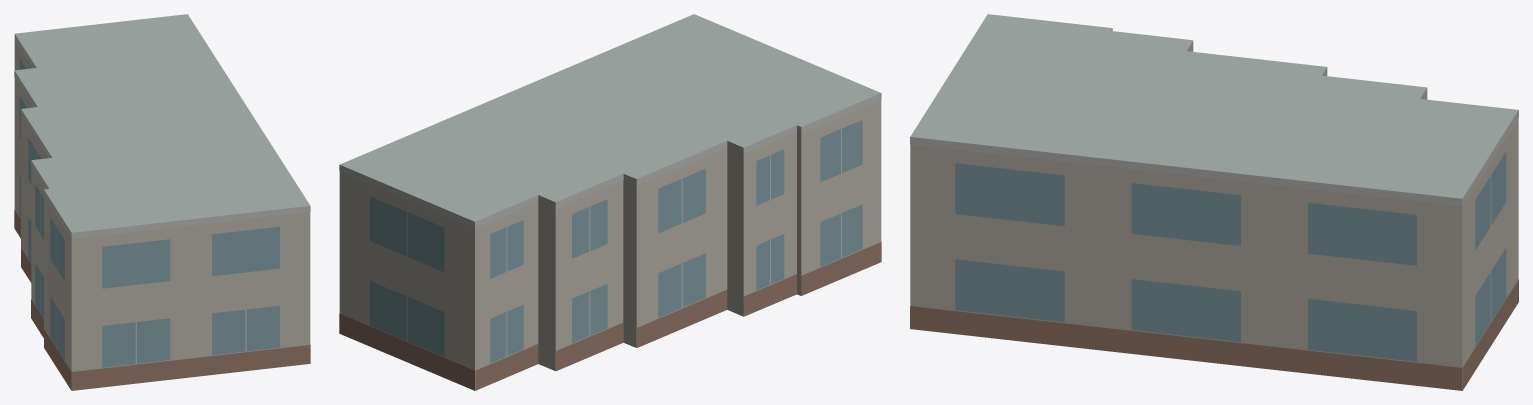
File: survey-upis-32809462.glb
3 views of the same model, side by side, from view 1: azimuth 30°, elevation 25°; view 2: azimuth 150°, elevation 25°; view 3: azimuth 270°, elevation 25° (orthographic). The views are drawn at different scales.
Visible parts, largest first — view 1: survey-upis-32809462.tmp; view 2: survey-upis-32809462.tmp; view 3: survey-upis-32809462.tmp.
Boxes of the visible parts, left/top/right/bottom form: survey-upis-32809462.tmp: left=14, top=14, right=310, bottom=390; survey-upis-32809462.tmp: left=339, top=14, right=881, bottom=390; survey-upis-32809462.tmp: left=910, top=14, right=1518, bottom=390.
Size of the model in its own units: 12.59 by 6.1 by 17.52.
